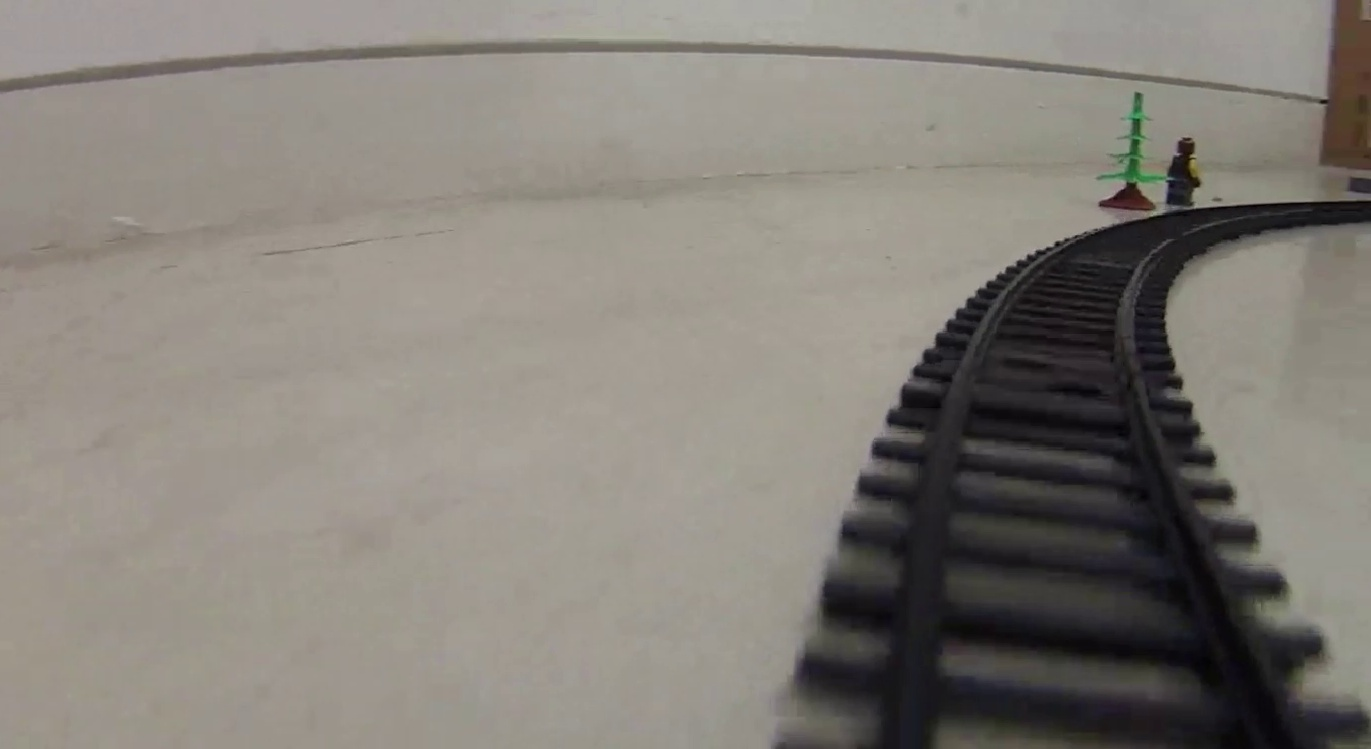people: (1167, 135, 1203, 205)
tree: (1091, 90, 1164, 213)
